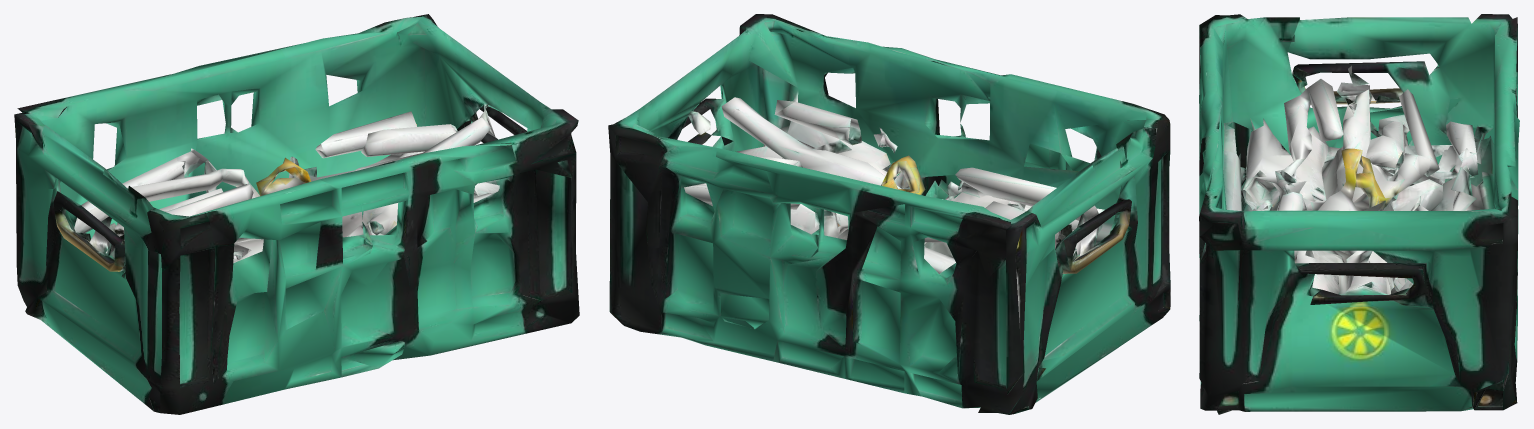
File: ammo-crate.glb
3 renders of one model, left to right at view 1: azimuth 30°, elevation 25°; view 2: azimuth 150°, elevation 25°; view 3: azimuth 270°, elevation 25°, orthographic.
Bounding box in the file's own units: 1.88 × 0.8557 × 1.22.
1 material, 1 textured.
